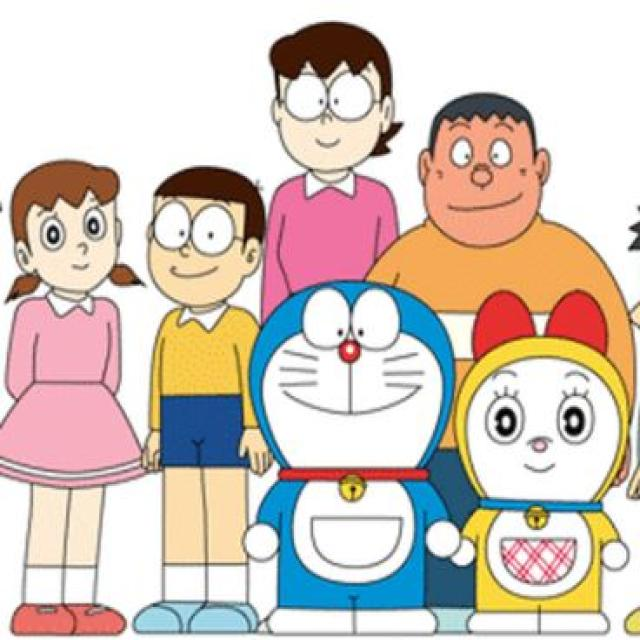doraemon: (247, 282, 457, 497)
jaian: (418, 88, 564, 251)
nobita: (143, 163, 266, 321)
shizuka: (5, 158, 141, 308)
